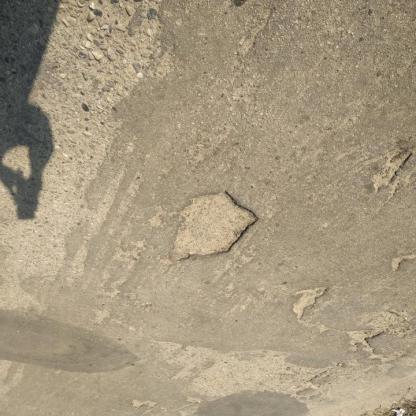pothole: (167, 191, 261, 268), (371, 151, 414, 195), (292, 286, 330, 323), (344, 328, 385, 354)
